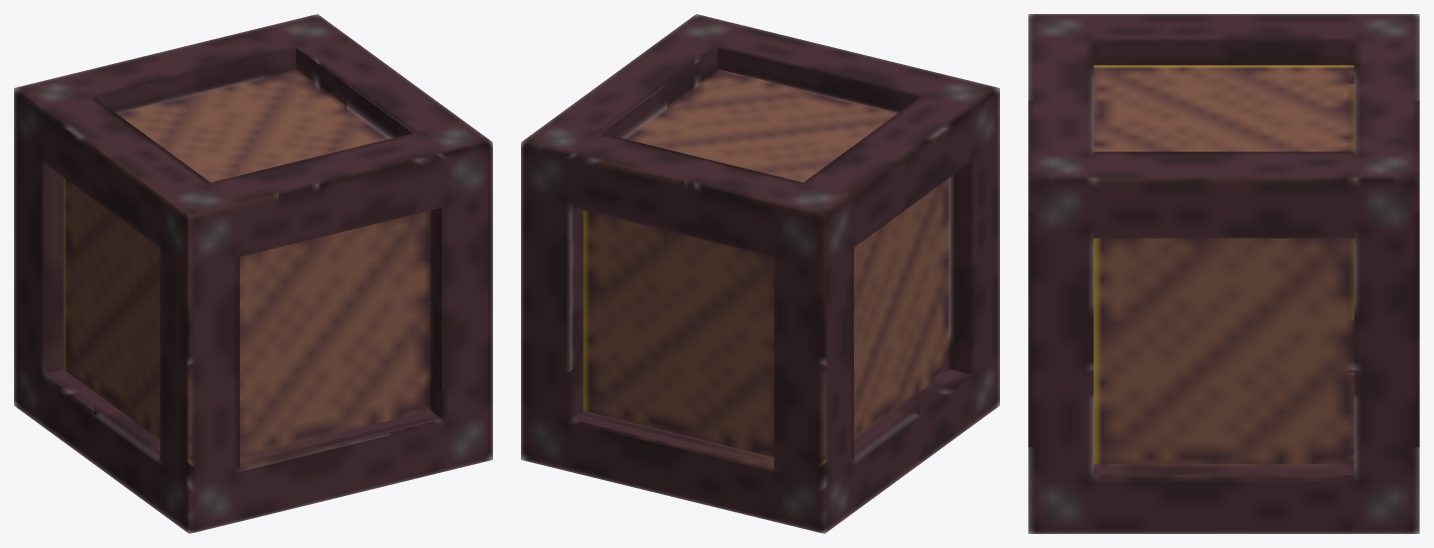
The model's file is Crate.glb.
The picture shows the model from 3 angles, left to right: view 1: azimuth 30°, elevation 25°; view 2: azimuth 150°, elevation 25°; view 3: azimuth 270°, elevation 25°; orthographic projection. The views are drawn at different scales.
Parts seen in each view (by area): view 1: Crate; view 2: Crate; view 3: Crate.
Boxes of the visible parts, x1,y1,x2,y2 form: Crate: [14, 14, 492, 533]; Crate: [521, 14, 999, 533]; Crate: [1028, 14, 1419, 533].
Bounding box in the file's own units: 1.5 × 1.5 × 1.5.
Materials: 1 (1 with a texture image).
